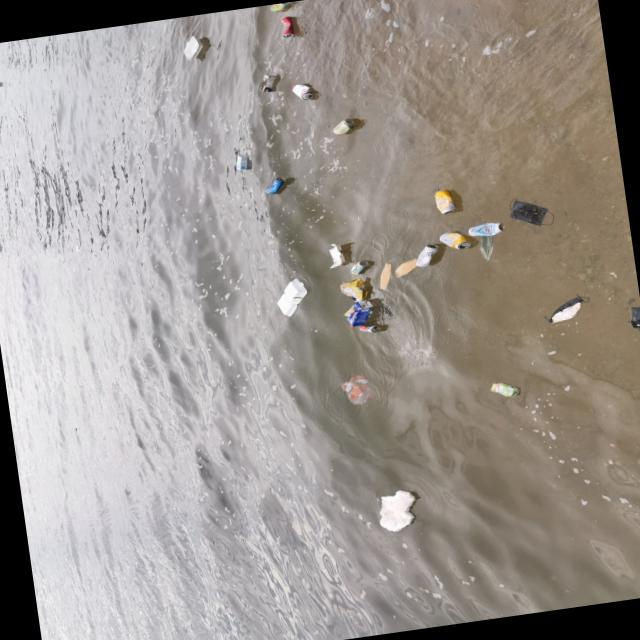can: (438, 228, 472, 252), (432, 187, 456, 216), (468, 220, 506, 237), (414, 244, 441, 266), (291, 80, 316, 102), (264, 176, 288, 194), (278, 15, 296, 38), (331, 118, 355, 134), (358, 321, 383, 334), (350, 258, 370, 274), (270, 1, 292, 12)
foam: (376, 486, 420, 534), (272, 275, 312, 318), (181, 34, 206, 61), (326, 242, 348, 268)
plastic bottle: (339, 372, 380, 407), (338, 276, 368, 302)
unknow: (506, 192, 556, 230), (540, 291, 594, 324), (342, 298, 375, 328), (374, 258, 398, 292), (488, 378, 522, 401), (477, 234, 500, 264), (394, 256, 420, 278), (257, 72, 279, 94), (627, 304, 640, 334), (233, 152, 250, 170)
